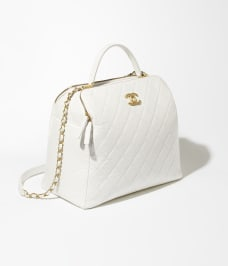channel: (40, 46, 192, 205), (50, 88, 79, 198), (120, 90, 141, 110)
